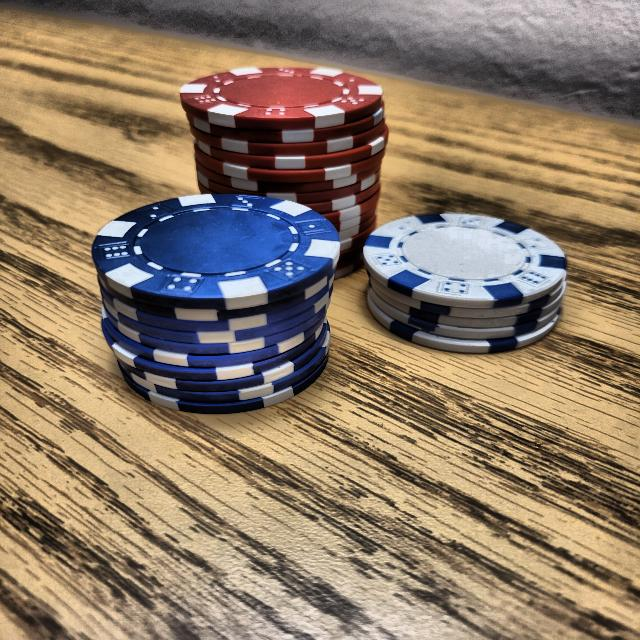Chip: (71, 180, 354, 438), (162, 47, 408, 285), (352, 192, 568, 364)
